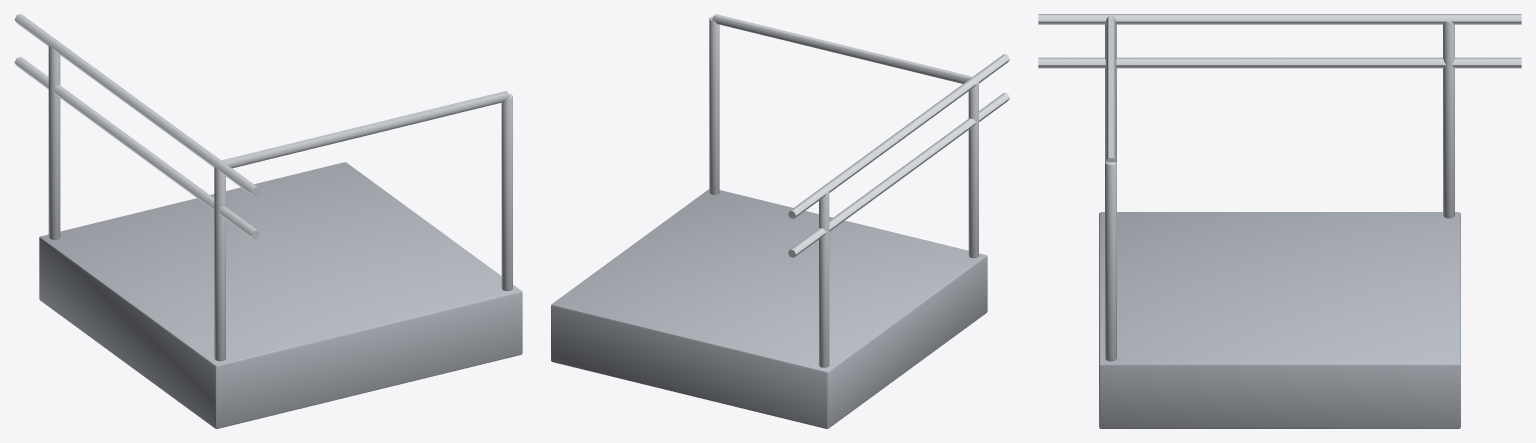
The model's file is patamar_h30.glb.
3 renders of one model, left to right at view 1: azimuth 30°, elevation 25°; view 2: azimuth 150°, elevation 25°; view 3: azimuth 270°, elevation 25°, orthographic. The views are drawn at different scales.
Parts seen in each view (by area): view 1: patamar_h30; view 2: patamar_h30; view 3: patamar_h30.
Part boxes in pixels (x1,y1,x2,y2): patamar_h30: [14, 14, 522, 428]; patamar_h30: [551, 14, 1009, 428]; patamar_h30: [1038, 14, 1521, 428].
Size of the model in its own units: 1.5 by 1.22 by 2.
1 material, 1 textured.
